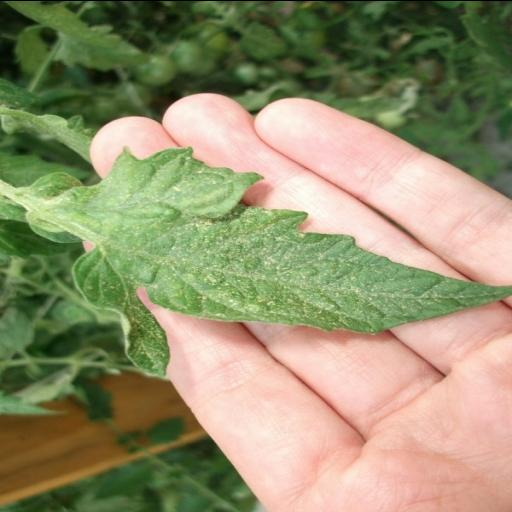Spider Mites: (47, 146, 509, 380)
